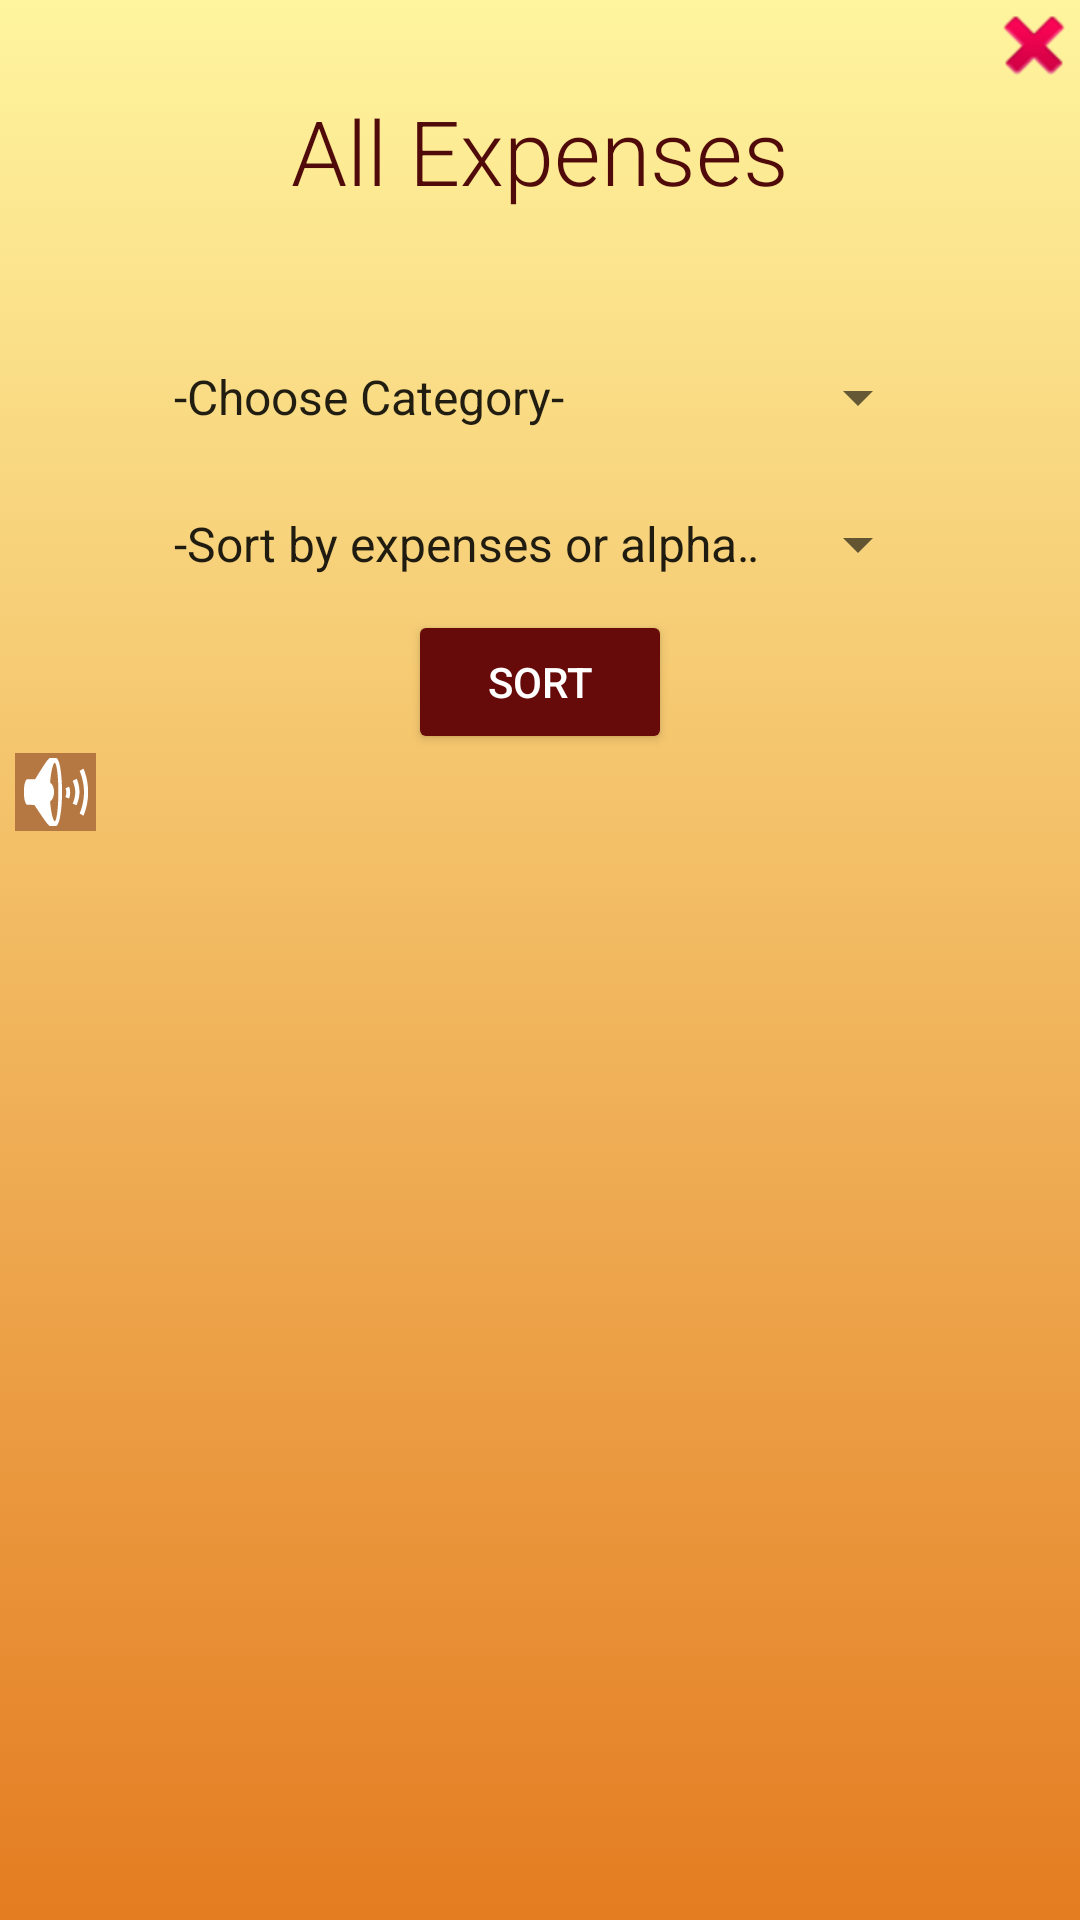

Icons on this 1080 × 1920 Android screen, each with the point to tap as (x,y):
delete: (1034,45)
lock silent mode off: (55,792)
